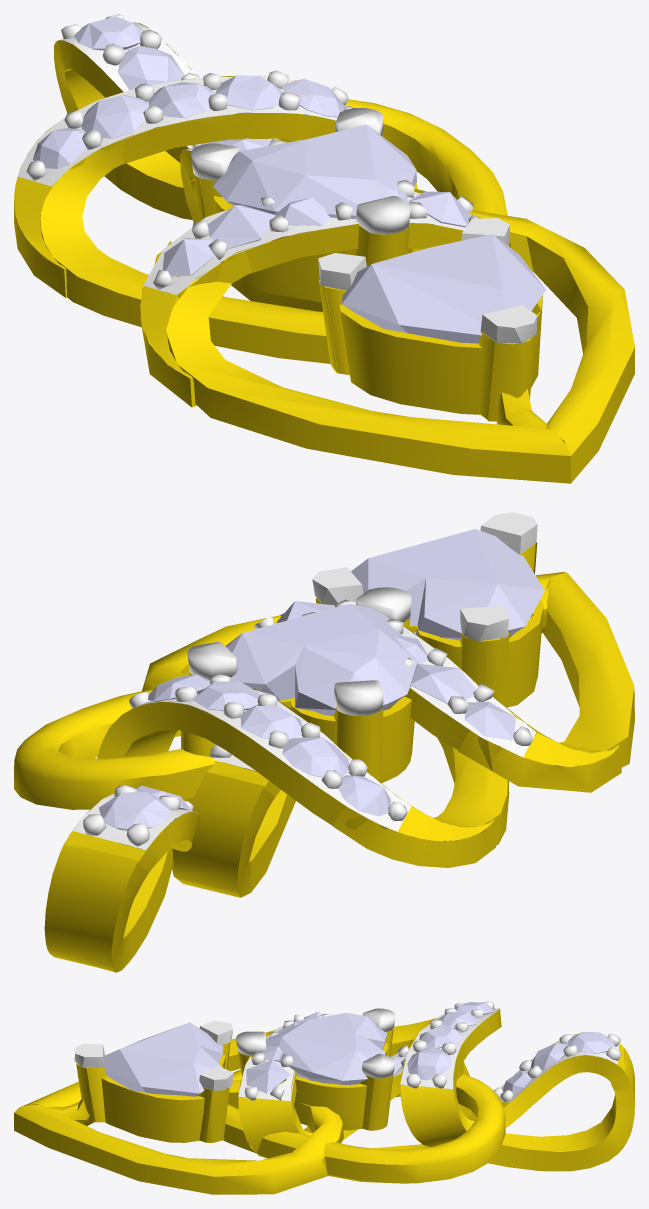
File: DPN-D000675672.glb
3 renders of one model, top to bottom at view 1: azimuth 30°, elevation 25°; view 2: azimuth 150°, elevation 25°; view 3: azimuth 270°, elevation 25°, orthographic. The views are drawn at different scales.
Parts seen in each view (by area): view 1: lowPolyMesh, highPolyMesh; view 2: highPolyMesh, lowPolyMesh; view 3: highPolyMesh, lowPolyMesh.
Boxes of the visible parts, <box> form: lowPolyMesh: <box>140,138,634,483</box>; highPolyMesh: <box>14,14,507,363</box>; highPolyMesh: <box>14,587,509,972</box>; lowPolyMesh: <box>142,512,634,897</box>; highPolyMesh: <box>223,1001,634,1183</box>; lowPolyMesh: <box>14,1011,472,1194</box>.
Size of the model in its own units: 0.0106 by 0.00496 by 0.0201.
